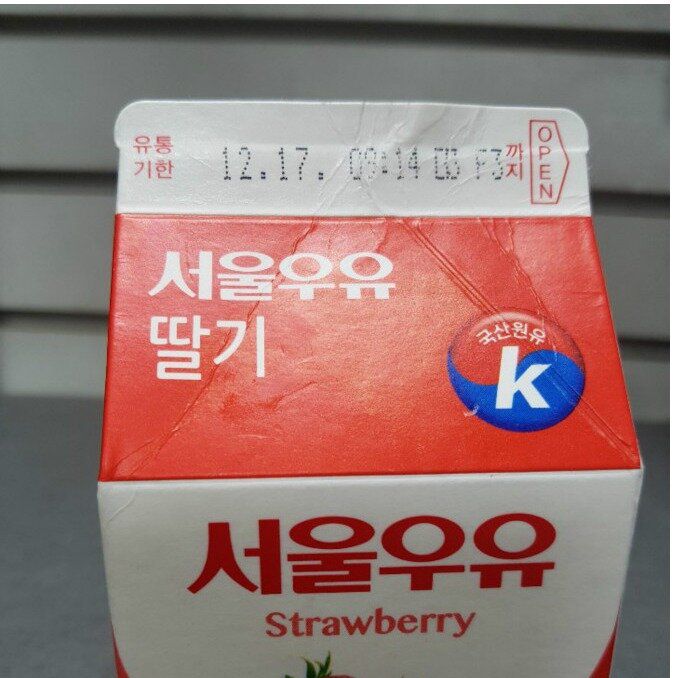milk: (95, 98, 645, 678)
